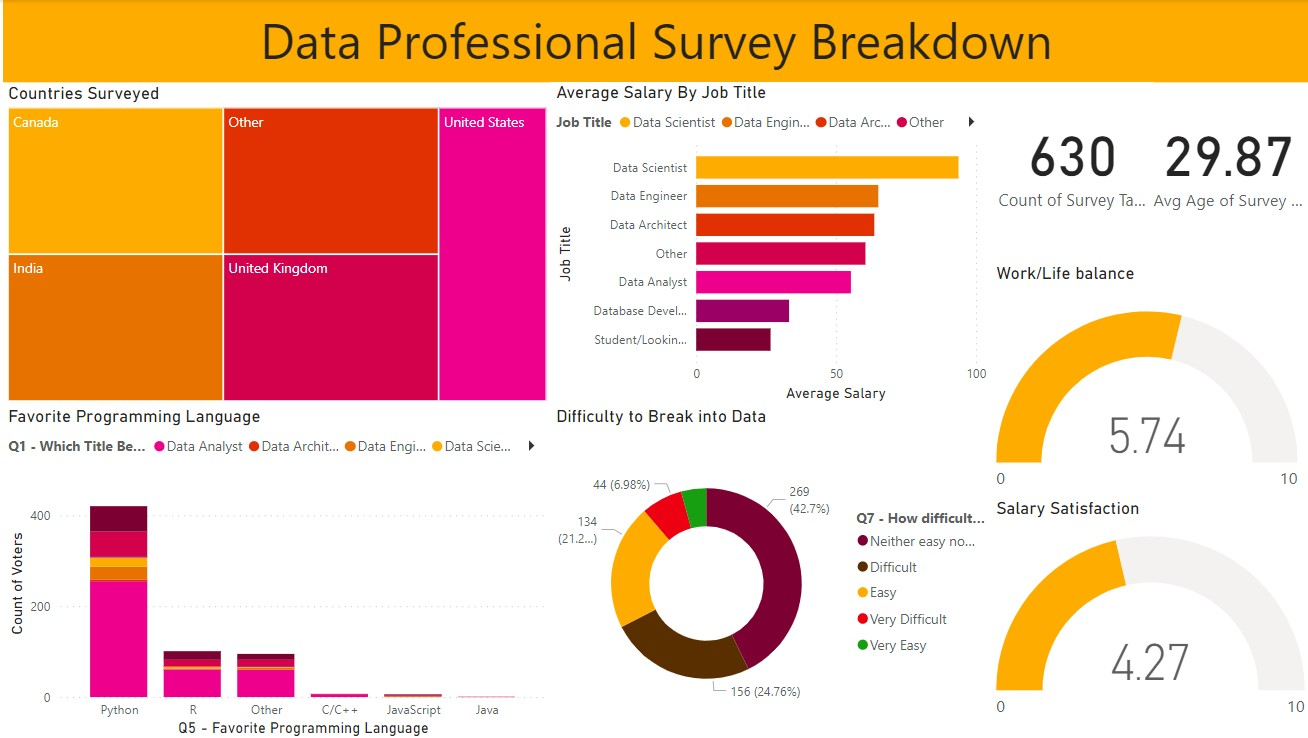

What the dashboard file says about the page in this screenshot:
{"tool":"powerbi","page":{"name":"Page 1","canvas":[1280,720],"ordinal":0},"visuals":[{"type":"textbox","box":[9.7,0,1270.3,79.7],"z":0},{"type":"card","fields":{"Values":["CountNonNull(Data Professional Survey.Unique ID)"]},"box":[970,79.7,158.4,150.6],"z":1},{"type":"card","fields":{"Values":["Avg(Data Professional Survey.Q10 - Current Age)"]},"box":[1121.6,80.7,158.4,149.7],"z":2},{"type":"barChart","title":"Average Salary By Job Title","fields":{"Category":["Data Professional Survey.Q1 - Which Title Best Fits your Current Role?.1"],"Y":["Avg(Data Professional Survey.Avg Salary)"],"Series":["Data Professional Survey.Q1 - Which Title Best Fits your Current Role?.1"]},"box":[542.3,79.7,427.6,314.9],"z":3},{"type":"columnChart","title":"Favorite Programming Language","fields":{"Category":["Data Professional Survey.Q5 - Favorite Programming Language.1"],"Y":["CountNonNull(Data Professional Survey.Unique ID)"],"Series":["Data Professional Survey.Q1 - Which Title Best Fits your Current Role?.1"]},"box":[9.7,394.6,532.6,325.6],"z":4},{"type":"treemap","title":"Countries Surveyed","fields":{"Group":["Data Professional Survey.Q11 - Which Country do you live in?.1"],"Values":["Count(Data Professional Survey.Q11 - Which Country do you live in?.1)"]},"box":[9.7,80.7,532.6,313.9],"z":5},{"type":"gauge","title":"Work/Life balance","fields":{"Y":["Avg(Data Professional Survey.Q6 - How Happy are you in your Current Position with the following? (Work/Life Balance))"],"MinValue":["Min(Data Professional Survey.Q6 - How Happy are you in your Current Position with the following? (Work/Life Balance))"],"MaxValue":["Max(Data Professional Survey.Q6 - How Happy are you in your Current Position with the following? (Work/Life Balance))1"]},"box":[970,255.6,303.2,252.7],"z":6},{"type":"gauge","title":"Salary Satisfaction","fields":{"Y":["Avg(Data Professional Survey.Q6 - How Happy are you in your Current Position with the following? (Salary))"],"MinValue":["Min(Data Professional Survey.Q6 - How Happy are you in your Current Position with the following? (Salary))"],"MaxValue":["Max(Data Professional Survey.Q6 - How Happy are you in your Current Position with the following? (Salary))"]},"box":[970,484,310,236.2],"z":7},{"type":"donutChart","title":"Difficulty to Break into Data","fields":{"Category":["Data Professional Survey.Q7 - How difficult was it for you to break into Data?"],"Y":["CountNonNull(Data Professional Survey.Q7 - How difficult was it for you to break into Data?)"]},"box":[542.3,394.6,427.6,325.6],"z":8}]}

Visuals, with their boxes in screenshot pixels (x1, y1, x2, y2), scaled from the page's 1280x720 canvas onto the 1308x738 screenshot:
textbox: 10/0/1307/82
card - CountNonNull(Data Professional Survey.Unique ID): 991/82/1153/236
card - Avg(Data Professional Survey.Q10 - Current Age): 1146/83/1307/236
"Average Salary By Job Title" barChart: 554/82/991/404
"Favorite Programming Language" columnChart: 10/404/554/737
"Countries Surveyed" treemap: 10/83/554/404
"Work/Life balance" gauge: 991/262/1301/521
"Salary Satisfaction" gauge: 991/496/1307/737
"Difficulty to Break into Data" donutChart: 554/404/991/737
